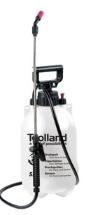PULVERISATEUR: (0, 6, 91, 215)
